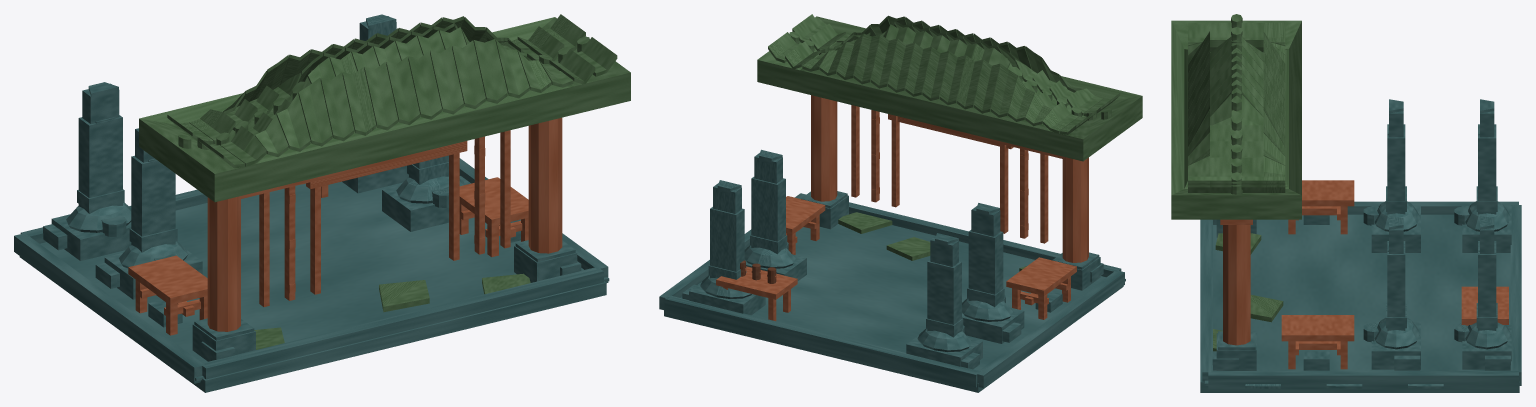
3 views of the same model, side by side, from view 1: azimuth 30°, elevation 25°; view 2: azimuth 150°, elevation 25°; view 3: azimuth 270°, elevation 25° (orthographic). The views are drawn at different scales.
Visible parts, largest first — view 1: garrison_part_0004, garrison_part_0002, garrison_part_0000, garrison_part_0001, garrison_part_0005, garrison_part_0006, garrison_part_0003; view 2: garrison_part_0004, garrison_part_0005, garrison_part_0002, garrison_part_0000, garrison_part_0001, garrison_part_0006, garrison_part_0003; view 3: garrison_part_0004, garrison_part_0002, garrison_part_0005, garrison_part_0000, garrison_part_0006, garrison_part_0001.
Part boxes in pixels (left/top/right/bottom): garrison_part_0004: left=139, top=14, right=630, bottom=202; garrison_part_0002: left=40, top=181, right=583, bottom=362; garrison_part_0000: left=14, top=158, right=609, bottom=392; garrison_part_0001: left=192, top=117, right=577, bottom=361; garrison_part_0005: left=51, top=14, right=466, bottom=299; garrison_part_0006: left=128, top=177, right=528, bottom=335; garrison_part_0003: left=241, top=147, right=438, bottom=198; garrison_part_0004: left=757, top=14, right=1142, bottom=161; garrison_part_0005: left=689, top=149, right=1024, bottom=366; garrison_part_0002: left=680, top=191, right=1105, bottom=370; garrison_part_0000: left=659, top=193, right=1125, bottom=392; garrison_part_0001: left=811, top=95, right=1100, bottom=290; garrison_part_0006: left=716, top=196, right=1076, bottom=321; garrison_part_0003: left=907, top=119, right=1062, bottom=158; garrison_part_0004: left=1171, top=14, right=1301, bottom=219; garrison_part_0002: left=1213, top=214, right=1510, bottom=370; garrison_part_0005: left=1363, top=99, right=1511, bottom=369; garrison_part_0000: left=1200, top=201, right=1521, bottom=392; garrison_part_0006: left=1281, top=180, right=1508, bottom=369; garrison_part_0001: left=1216, top=219, right=1256, bottom=370.
Size of the model in its own units: 576 by 377 by 483.
